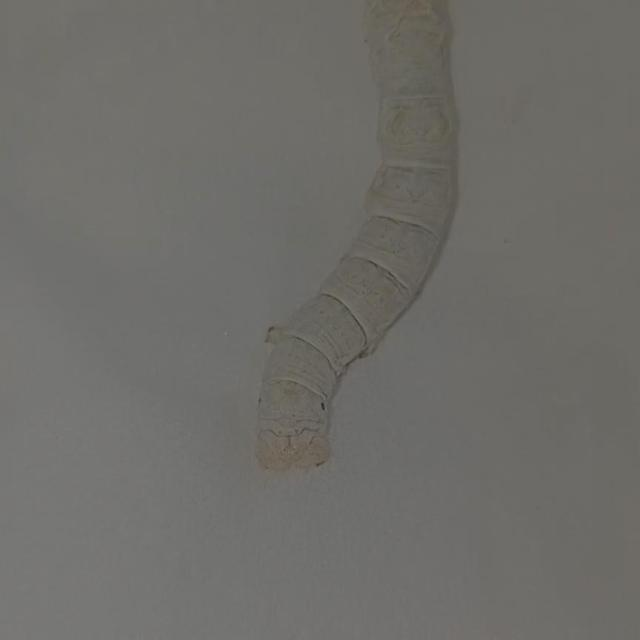Healthy: (240, 0, 477, 493)
